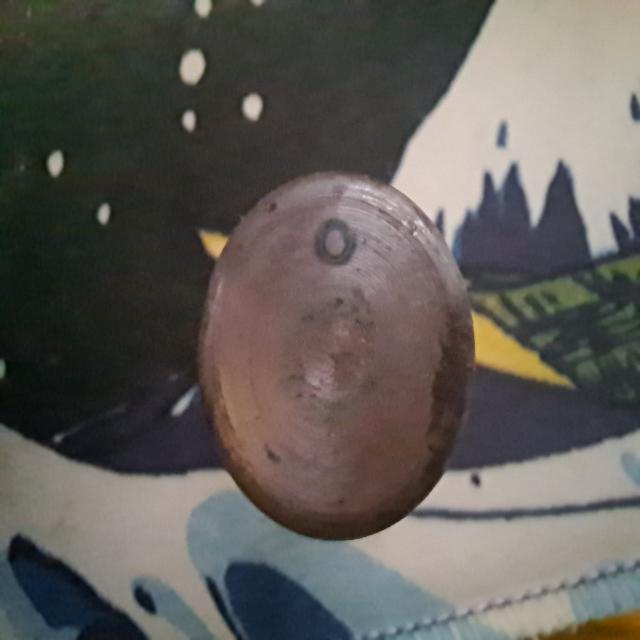defect: (311, 211, 365, 272)
planson: (195, 173, 478, 546)
